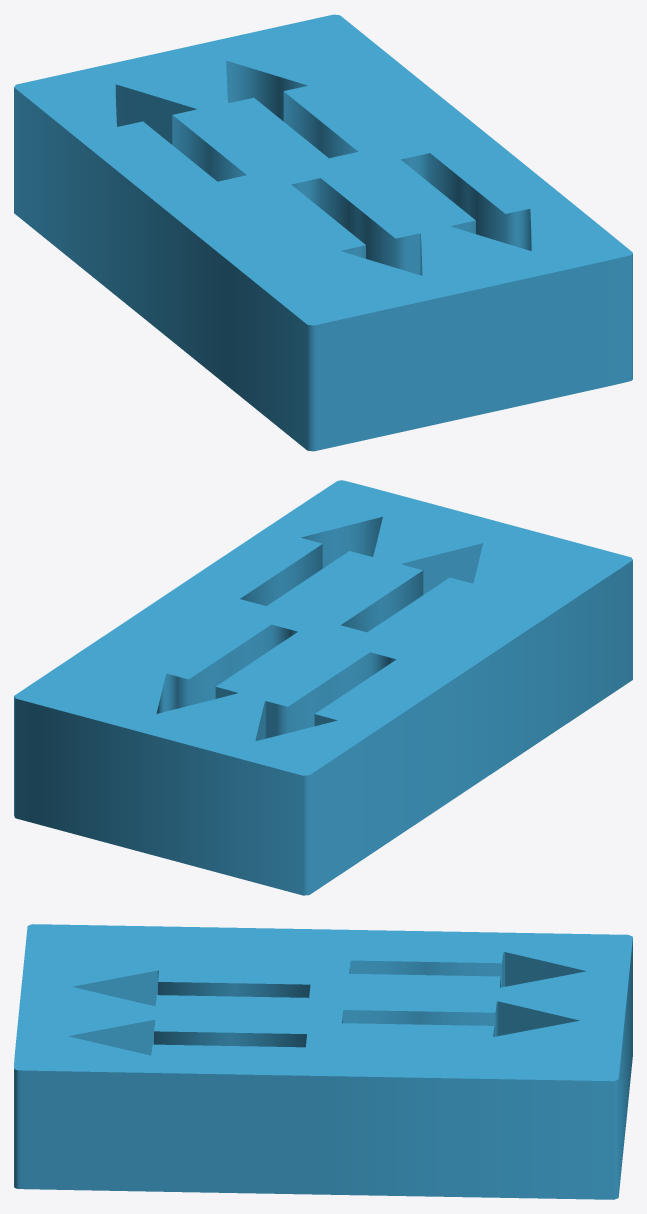
The model's file is switch2.glb.
3 renders of one model, top to bottom at view 1: azimuth 30°, elevation 25°; view 2: azimuth 150°, elevation 25°; view 3: azimuth 270°, elevation 25°, orthographic. The views are drawn at different scales.
Parts seen in each view (by area): view 1: path212; view 2: path212; view 3: path212.
Boxes of the visible parts, x1,y1,x2,y2 form: path212: [14, 14, 632, 451]; path212: [14, 480, 632, 895]; path212: [14, 924, 632, 1199].
Bounding box in the file's own units: 1.7 × 0.6 × 2.84.
